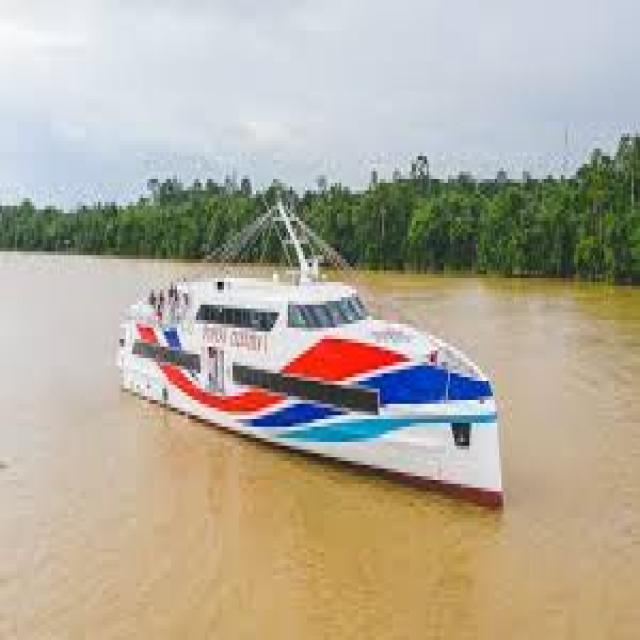houseboat: (115, 225, 502, 491)
